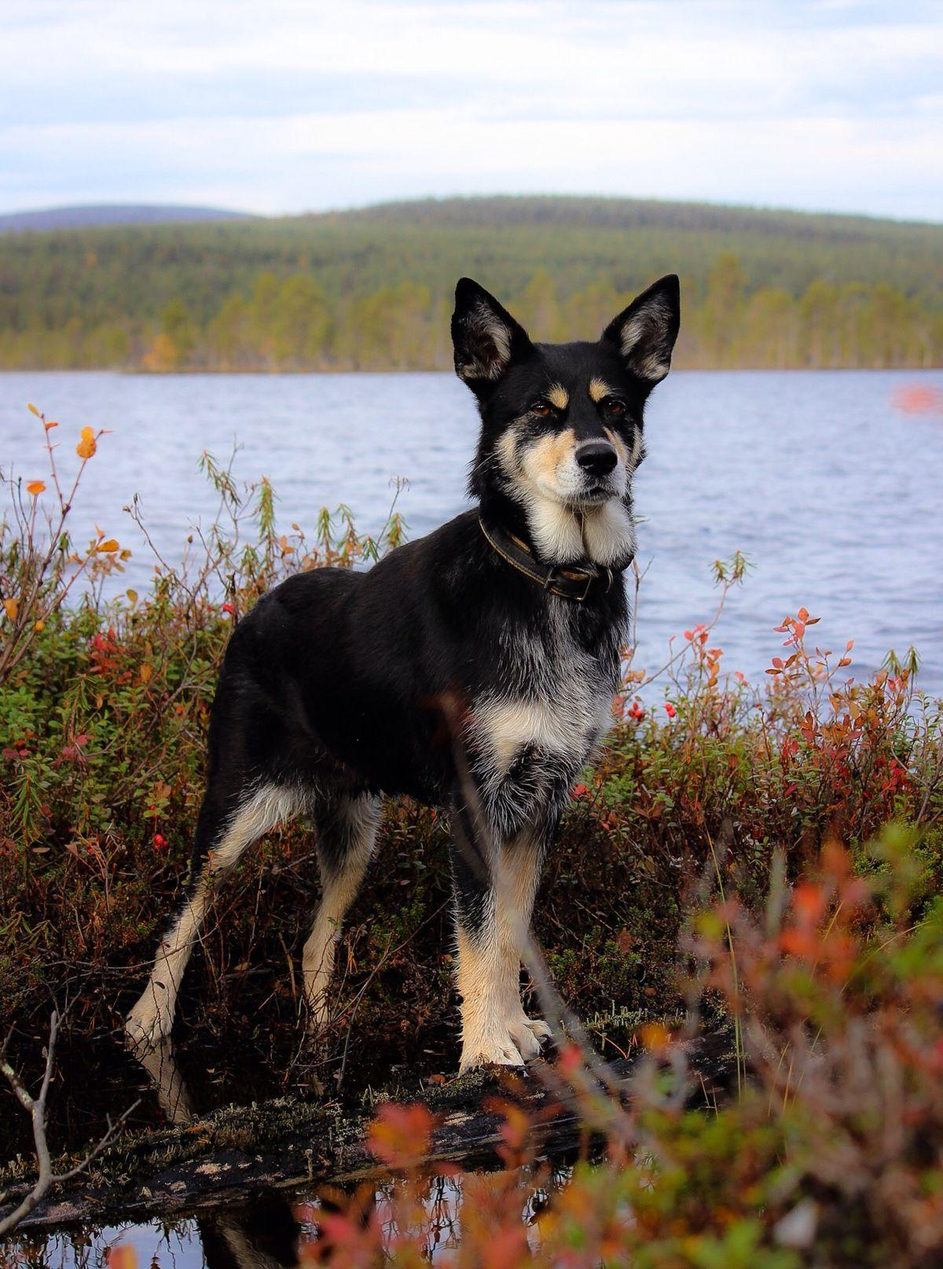dog: (127, 275, 678, 1069)
